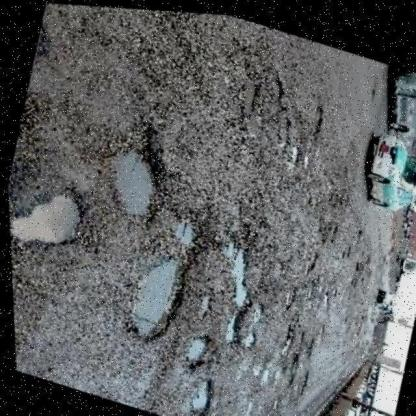pothole: (116, 240, 196, 351), (6, 176, 90, 260), (94, 136, 172, 223), (216, 240, 260, 307), (29, 11, 59, 73), (164, 210, 204, 252), (180, 370, 216, 416), (177, 327, 212, 369), (216, 301, 242, 346)
